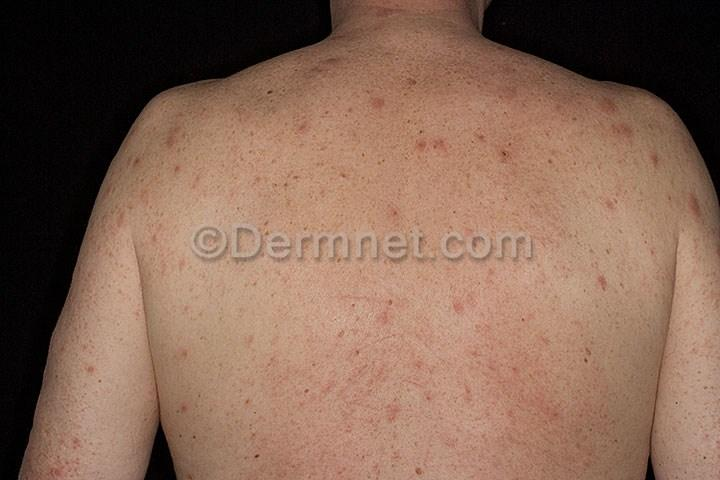Eczema: (130, 190, 310, 400), (316, 180, 479, 398), (500, 193, 650, 383), (419, 390, 641, 480), (474, 79, 640, 195), (329, 42, 475, 170), (208, 62, 316, 176), (144, 407, 303, 480), (313, 393, 438, 480), (55, 315, 114, 407), (111, 126, 189, 184), (22, 428, 84, 480), (671, 167, 713, 233), (83, 230, 125, 287)
